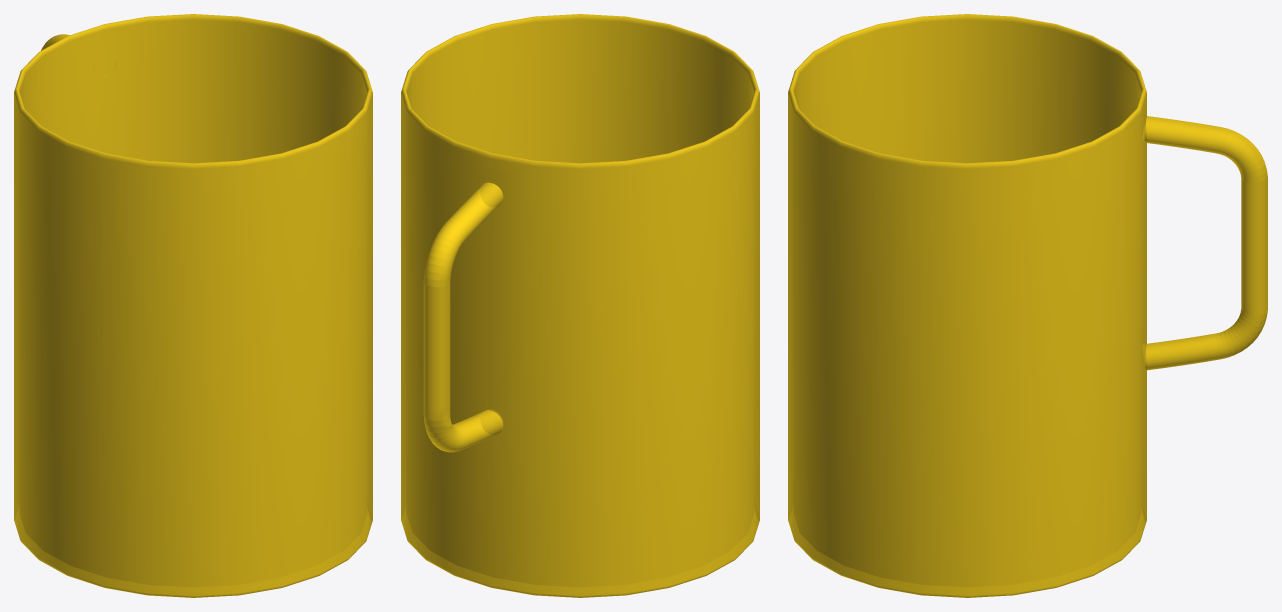
The picture shows the model from 3 angles, left to right: view 1: azimuth 30°, elevation 25°; view 2: azimuth 150°, elevation 25°; view 3: azimuth 270°, elevation 25°; orthographic projection.
Parts seen in each view (by area): view 1: mesh1_mesh1-geometry; view 2: mesh1_mesh1-geometry, mesh2_mesh2-geometry; view 3: mesh1_mesh1-geometry, mesh2_mesh2-geometry.
Part boxes in pixels (x1=…): mesh1_mesh1-geometry: x1=14, y1=14, x2=372, y2=597; mesh1_mesh1-geometry: x1=401, y1=14, x2=759, y2=597; mesh2_mesh2-geometry: x1=423, y1=182, x2=503, y2=452; mesh1_mesh1-geometry: x1=788, y1=14, x2=1146, y2=597; mesh2_mesh2-geometry: x1=1143, y1=116, x2=1267, y2=370.
Bounding box in the file's own units: 0.4678 × 0.6244 × 0.6255.
